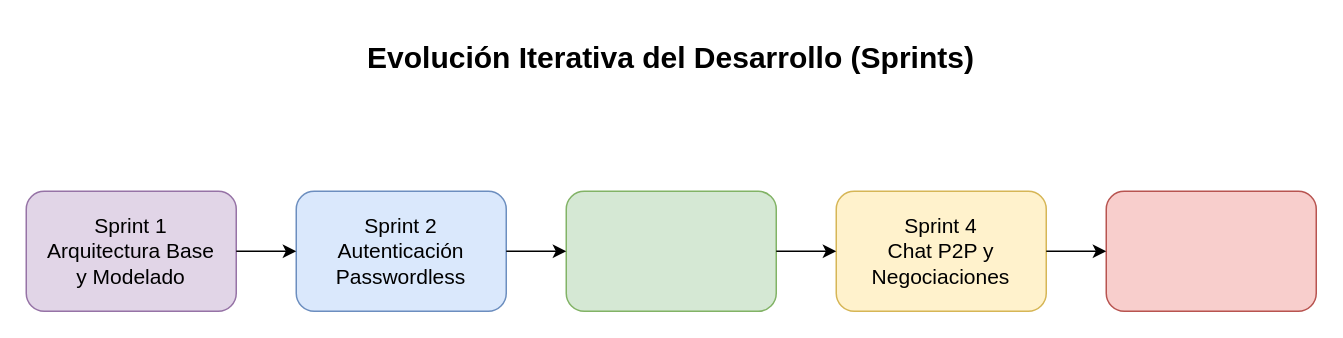
Some shapes in this 1343 by 338 pixel diagram are drawn without their labels. The shapes that lost their labels are listed below. From the top down, each one's centre as x and y in pixels, then its label:
[670,250]: Sprint 3 Búsqueda Híbrida Typesense + IA
[1210,250]: Sprint 5 Métricas, Cupones y Calidad (QA)
